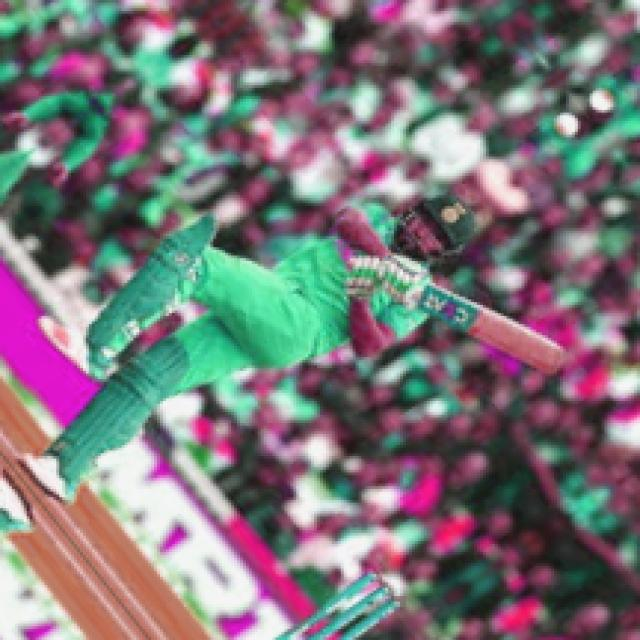toe: (530, 341, 562, 380)
